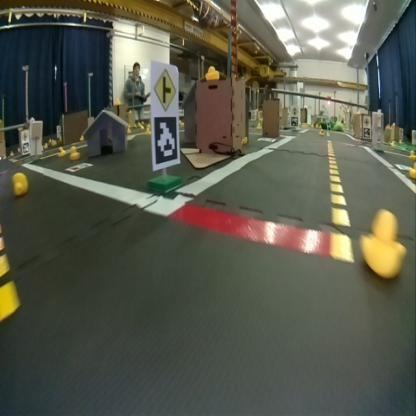Duckie: (360, 211, 404, 276), (12, 173, 27, 194), (205, 65, 218, 79), (70, 144, 80, 158), (57, 147, 64, 155)
Intersection sign: (152, 66, 176, 113)
QR code: (154, 115, 178, 164)
